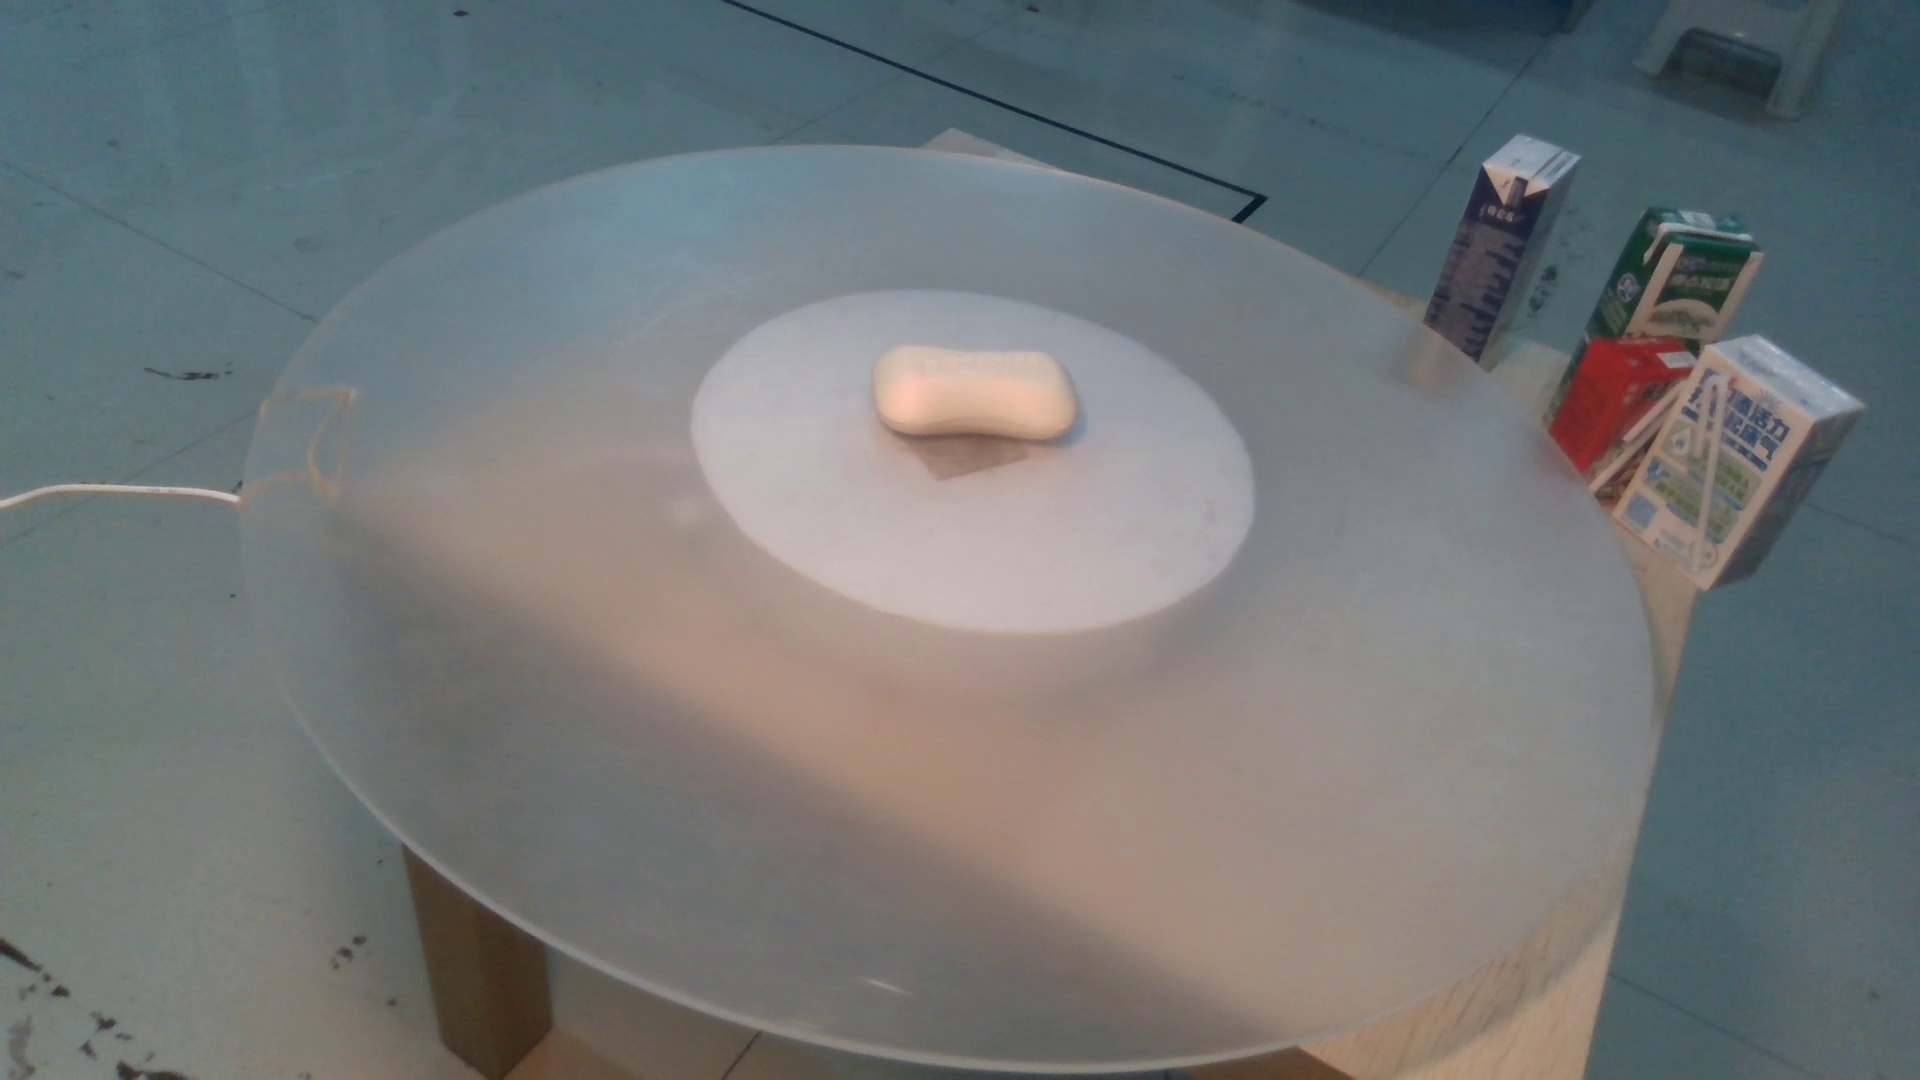CA003_1: (856, 322, 1109, 454)
